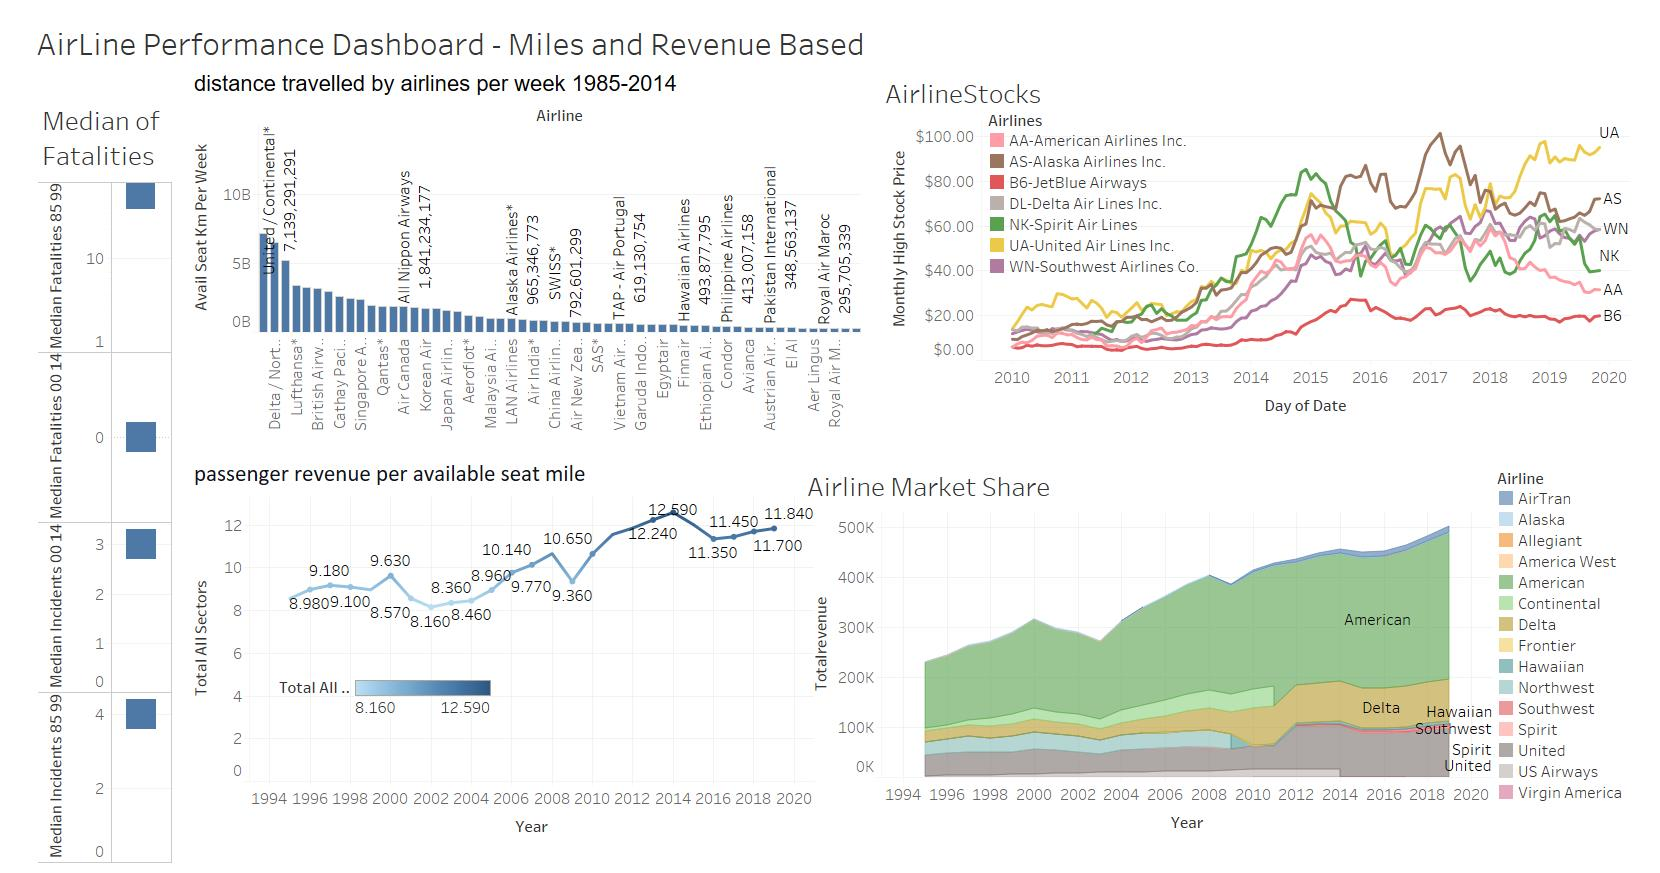

Layout of this report page (visuals, bound fields, positions):
{"tool":"tableau","page":{"name":"Dashboard 1","canvas":[1000,1000],"units":"permille","ordinal":0},"visuals":[{"type":"worksheet","box":[19.9,13.8,915.5,71]},{"type":"worksheet","title":"Distance travel per airline","mark":"Automatic","rows":["avail_seat_km_per_week"],"cols":["airline"],"box":[114.9,74.5,404.8,420.4]},{"type":"worksheet","title":"AirlineStocks","mark":"Automatic","rows":["High"],"cols":["Date"],"box":[531.5,80.2,452.2,404.4]},{"type":"worksheet","title":"Median_fatalities","mark":"Automatic","rows":["fatalities_85_99","fatalities_00_14","incidents_00_14","incidents_85_99"],"box":[23,111.2,125,877.5]},{"type":"worksheet","title":"AirlineStocks","mark":"Automatic","rows":["High"],"cols":["Date"],"param":"[federated.0oixwlh0ori4rw19xi1iy08ucv2o].[none:Calculation_781937550682288128:nk","box":[595.9,123.7,136.2,213.1]},{"type":"worksheet","title":"passenger revenue per available seat mile ","mark":"Automatic","rows":["Total All Sectors"],"cols":["Year"],"box":[114.7,518.9,376.6,447.9]},{"type":"worksheet","title":"Airline Market Share","mark":"Area","rows":["totalrevenue"],"cols":["Year"],"box":[484.6,530.4,416.4,431.8]},{"type":"worksheet","title":"Airline Market Share","mark":"Area","rows":["totalrevenue"],"cols":["Year"],"param":"[federated.1lfee9210ikwbq1cas8d7036pevz].[none:airline:nk]","box":[902.8,533.8,84.5,386]},{"type":"worksheet","title":"passenger revenue per available seat mile ","mark":"Automatic","rows":["Total All Sectors"],"cols":["Year"],"param":"[federated.124o3f4047pouv17ate4m0ou4hoj].[sum:Total All Sectors:qk]","box":[168.4,774.3,130.4,50.4]}]}

Visuals, with their boxes on the dashboard's canvas, which has no fixed pixel size, in thousandths of its width and height (x1, y1, x2, y2). These are canvas units, not pixel positions in the 1660x873 screenshot, which may show the page scaled, cropped or inside an application window:
worksheet: l=20, t=14, r=935, b=85
"Distance travel per airline" worksheet: l=115, t=74, r=520, b=495
"AirlineStocks" worksheet: l=532, t=80, r=984, b=485
"Median_fatalities" worksheet: l=23, t=111, r=148, b=989
"AirlineStocks" worksheet: l=596, t=124, r=732, b=337
"passenger revenue per available seat mile " worksheet: l=115, t=519, r=491, b=967
"Airline Market Share" worksheet (Area marks): l=485, t=530, r=901, b=962
"Airline Market Share" worksheet (Area marks): l=903, t=534, r=987, b=920
"passenger revenue per available seat mile " worksheet: l=168, t=774, r=299, b=825
